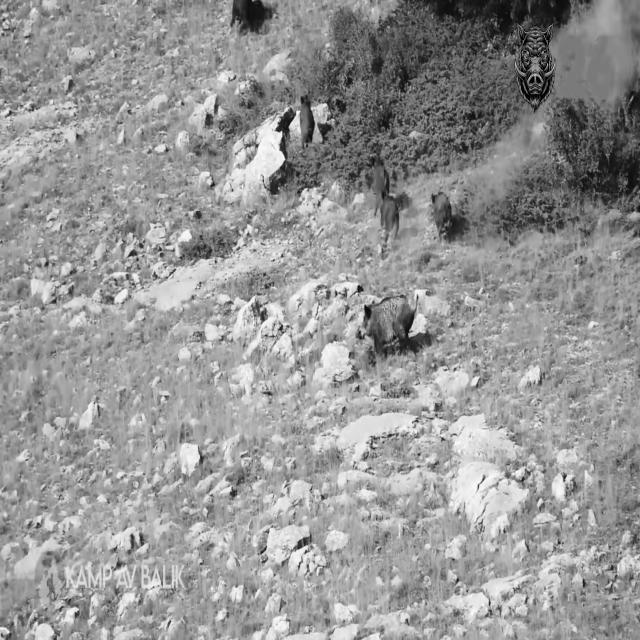boar: (360, 295, 415, 351), (374, 160, 400, 243), (231, 0, 271, 29), (432, 191, 452, 239), (381, 194, 400, 243), (300, 94, 315, 148)
